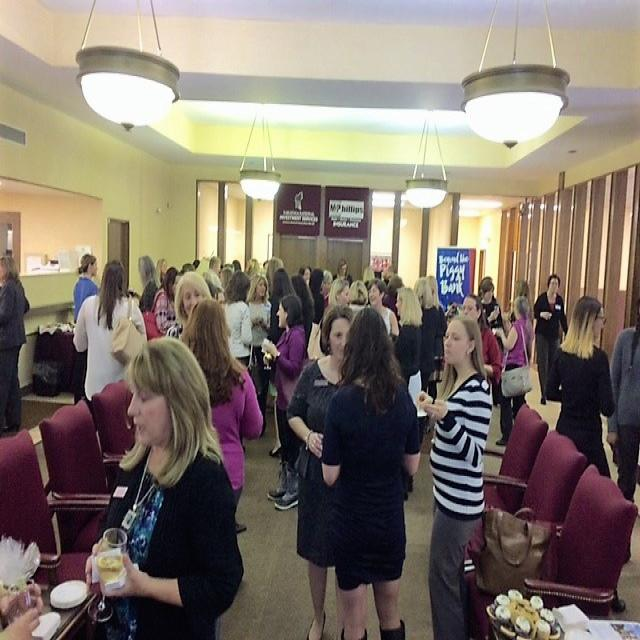body: (82, 332, 247, 639), (318, 302, 423, 638), (410, 312, 493, 639), (543, 294, 627, 614), (284, 301, 358, 640), (176, 296, 264, 512), (72, 256, 149, 407), (262, 292, 306, 513), (490, 293, 537, 448), (605, 296, 639, 504), (266, 265, 301, 459), (531, 272, 572, 408), (0, 253, 28, 438), (245, 271, 274, 440), (153, 255, 312, 285), (72, 252, 102, 405), (461, 290, 504, 386), (411, 274, 440, 402), (164, 269, 212, 344), (479, 279, 506, 409), (392, 284, 425, 387), (221, 268, 253, 368), (424, 272, 448, 404), (0, 570, 45, 640), (318, 265, 379, 304), (151, 266, 183, 338), (366, 276, 400, 336), (136, 254, 161, 314), (508, 279, 536, 324), (308, 268, 326, 331), (325, 278, 351, 314), (331, 256, 354, 288), (386, 271, 403, 288)
